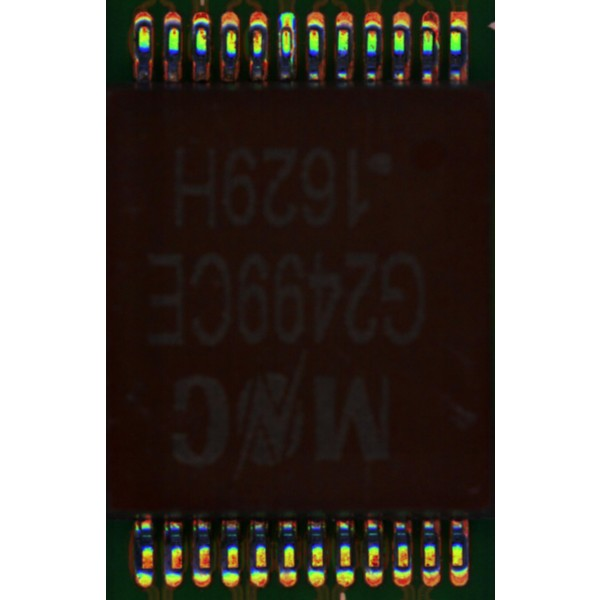Bad_podu: (282, 23, 291, 35)
Bad_qiaojiao: (277, 31, 282, 61), (291, 32, 295, 65)
